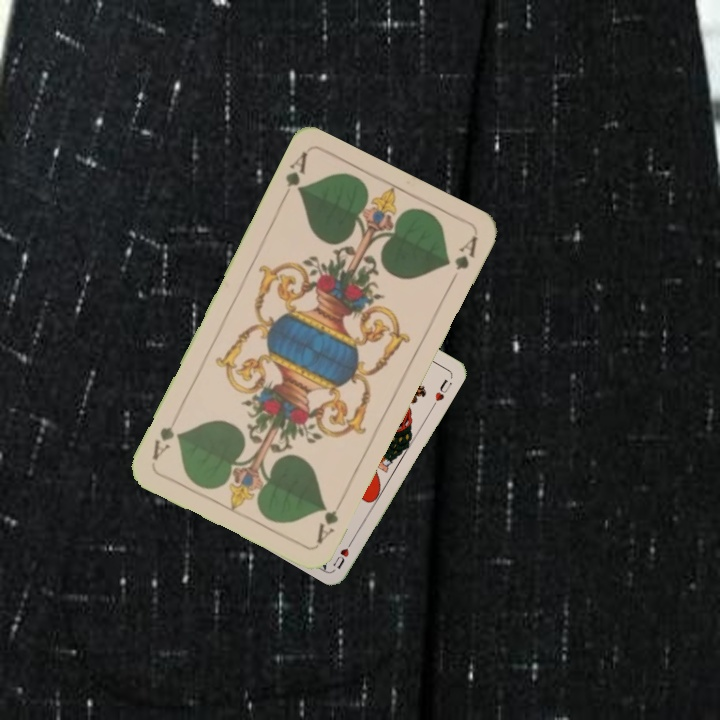GA: (312, 492, 345, 546), (281, 149, 310, 196)
HU: (329, 535, 357, 571)
